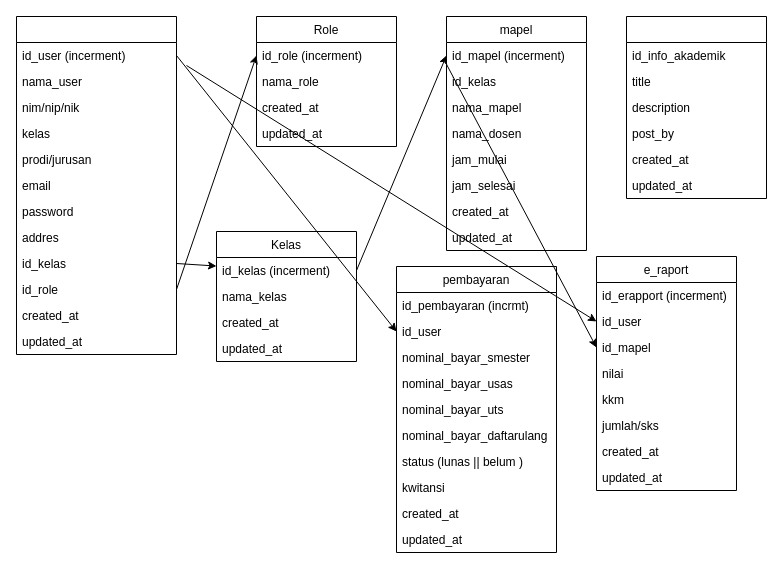
This 783x569 diagram has some shape labels left out. Each missing label, with the box of its shape:
infor akademik: (626, 16, 766, 198)
users: (16, 16, 176, 354)
